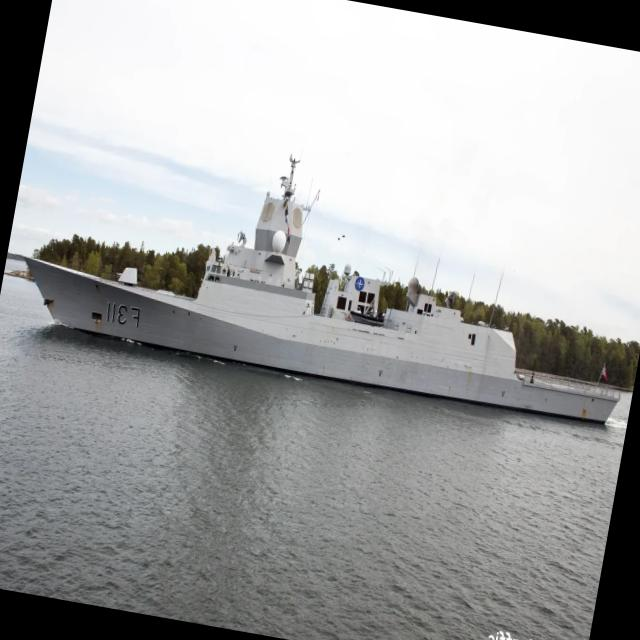Military: (26, 158, 619, 422)
